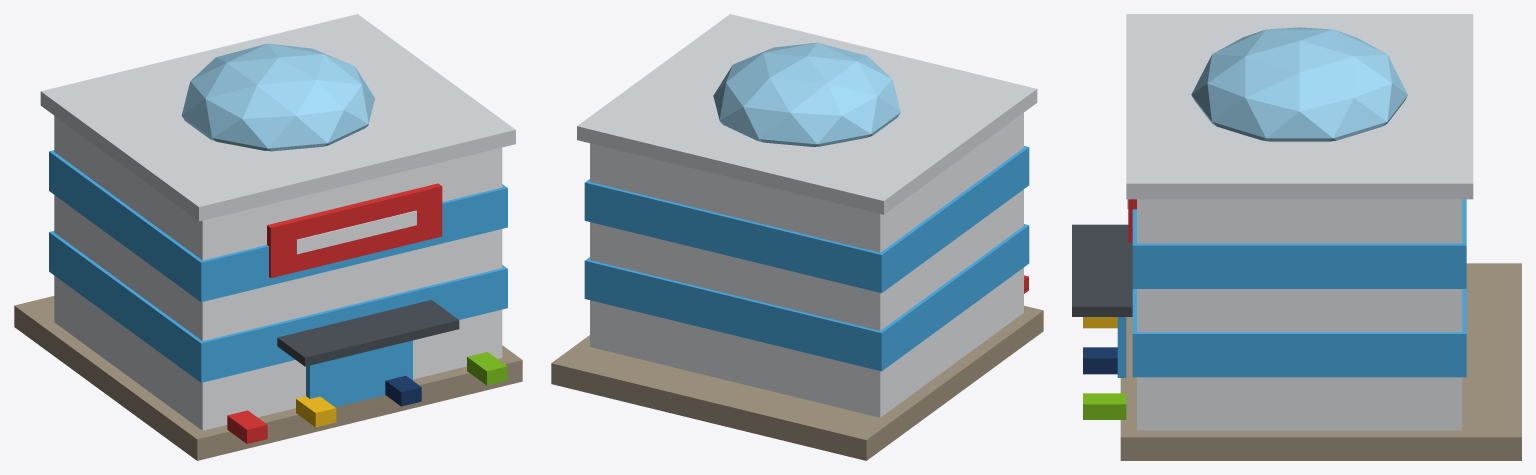
File: market_2.glb
The picture shows the model from 3 angles, left to right: view 1: azimuth 30°, elevation 25°; view 2: azimuth 150°, elevation 25°; view 3: azimuth 270°, elevation 25°; orthographic projection. The views are drawn at different scales.
Visible parts, largest first — view 1: branco.004, cinza_claro.001, vidro_azul.002, vidro_claro.001, cinza_chao, vermelho.002, lixo.001, verde.002, amarelo.001, azul_marinho.003; view 2: branco.004, cinza_claro.001, vidro_azul.002, cinza_chao, vidro_claro.001; view 3: branco.004, cinza_claro.001, vidro_azul.002, cinza_chao, vidro_claro.001, lixo.001, verde.002, azul_marinho.003.
Boxes of the visible parts, box(x1,y1,x2,y2) form: branco.004: box(54, 116, 502, 430); cinza_claro.001: box(40, 14, 515, 221); vidro_azul.002: box(49, 150, 507, 407); vidro_claro.001: box(181, 43, 374, 151); cinza_chao: box(14, 296, 522, 460); vermelho.002: box(227, 183, 442, 443); lixo.001: box(277, 300, 459, 366); verde.002: box(467, 352, 507, 385); amarelo.001: box(296, 396, 336, 427); azul_marinho.003: box(385, 375, 421, 406); branco.004: box(590, 112, 1023, 417); cinza_claro.001: box(577, 14, 1037, 214); vidro_azul.002: box(584, 146, 1029, 371); cinza_chao: box(551, 305, 1043, 460); vidro_claro.001: box(713, 42, 900, 146); branco.004: box(1127, 199, 1462, 430); cinza_claro.001: box(1126, 14, 1473, 199); vidro_azul.002: box(1117, 199, 1466, 377); cinza_chao: box(1120, 263, 1521, 460); vidro_claro.001: box(1191, 27, 1407, 141); lixo.001: box(1072, 224, 1132, 316); verde.002: box(1083, 393, 1126, 419); azul_marinho.003: box(1083, 347, 1117, 374).
Size of the model in its own units: 1.9 by 1.69 by 2.07.
